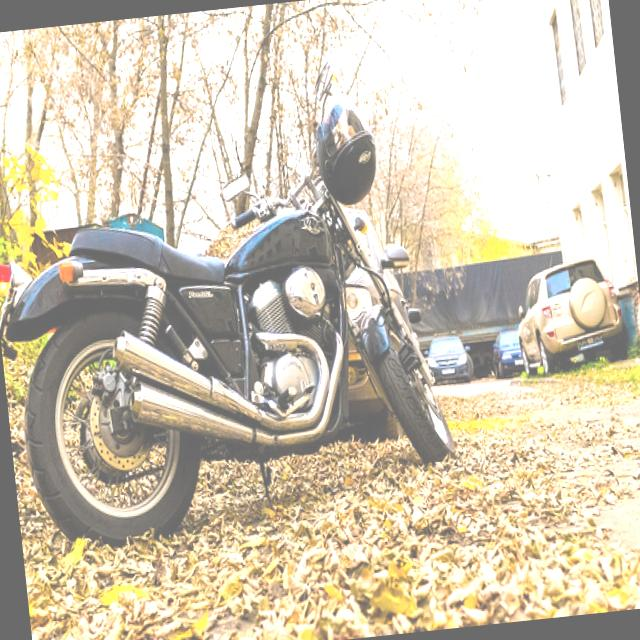Vehicle: (0, 92, 468, 571), (392, 250, 573, 371), (511, 254, 629, 378), (345, 334, 405, 444), (422, 332, 474, 389), (488, 324, 522, 376)
